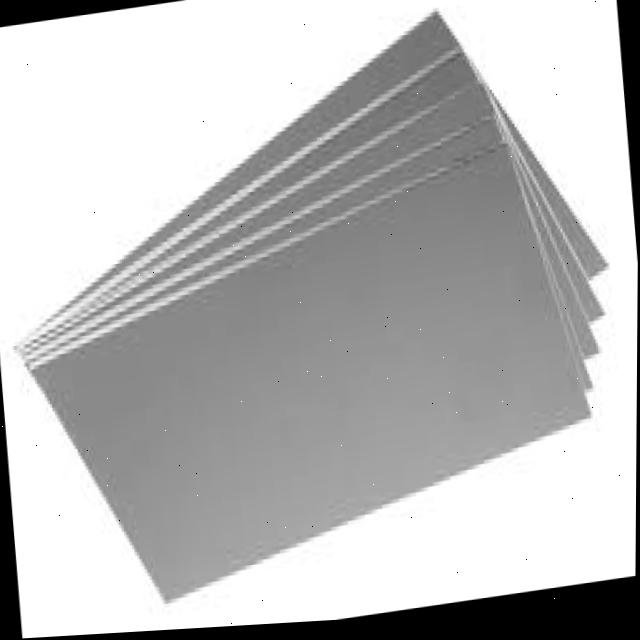Dry: (19, 14, 606, 605)
